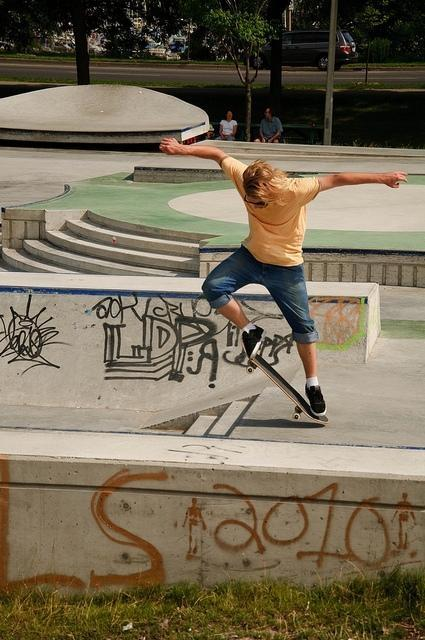car: (243, 28, 358, 72)
